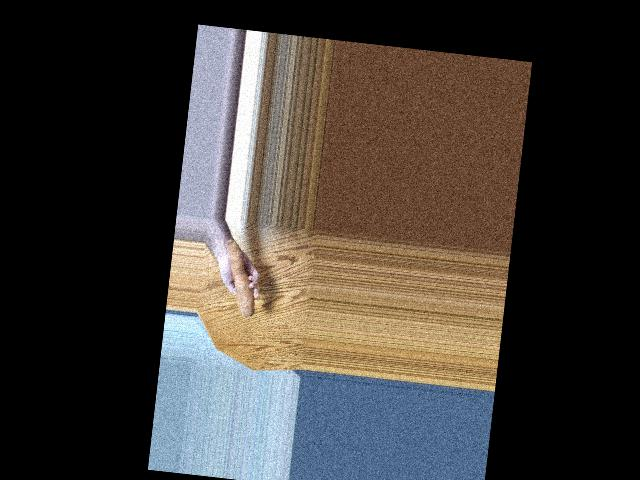sweet_potato: (219, 240, 263, 318)
